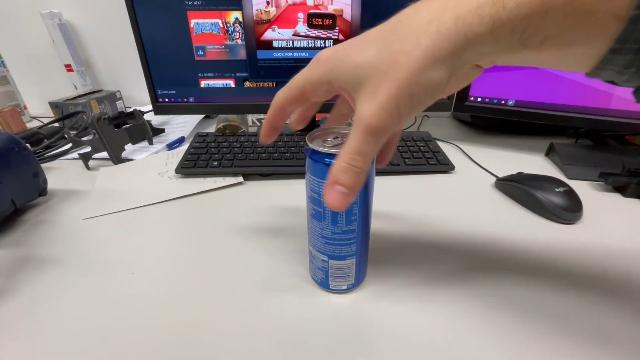Pepsi: (304, 124, 378, 298)
